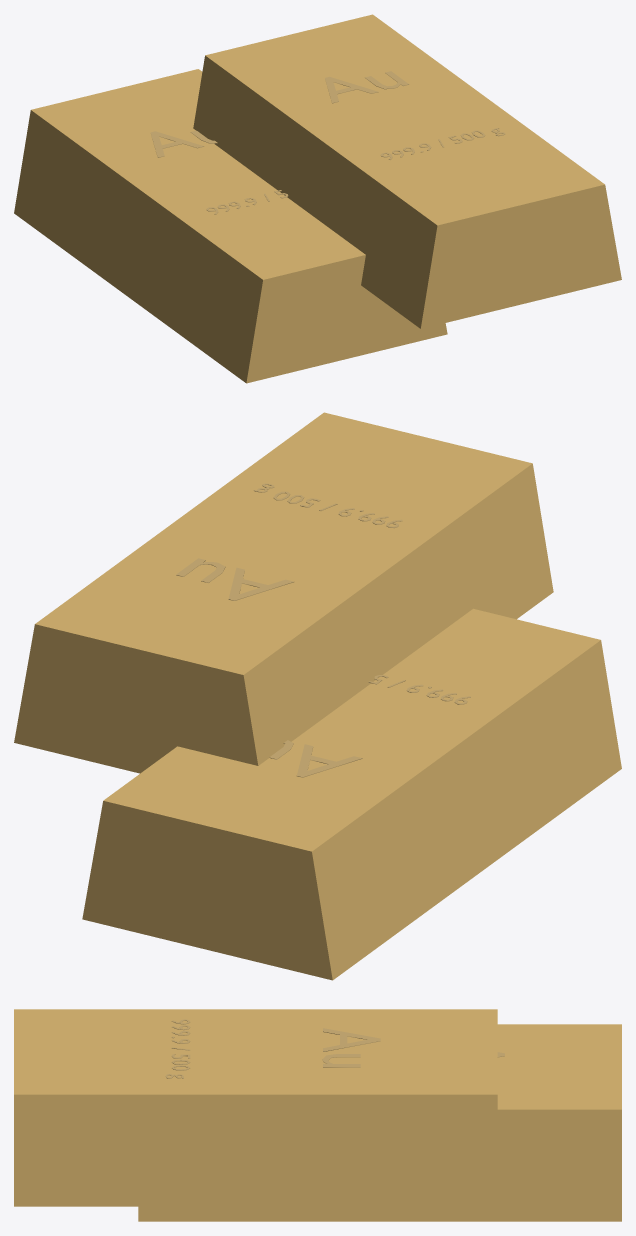
File: loot_gold_bar.glb
3 renders of one model, top to bottom at view 1: azimuth 30°, elevation 25°; view 2: azimuth 150°, elevation 25°; view 3: azimuth 270°, elevation 25°, orthographic. The views are drawn at different scales.
Parts seen in each view (by area): view 1: loot_gold_bar; view 2: loot_gold_bar; view 3: loot_gold_bar.
Part boxes in pixels (<box>): loot_gold_bar: <box>14,14,621,383</box>; loot_gold_bar: <box>14,412,621,980</box>; loot_gold_bar: <box>14,1009,621,1221</box>.
Size of the model in its own units: 0.113 by 0.0591 by 0.181.
